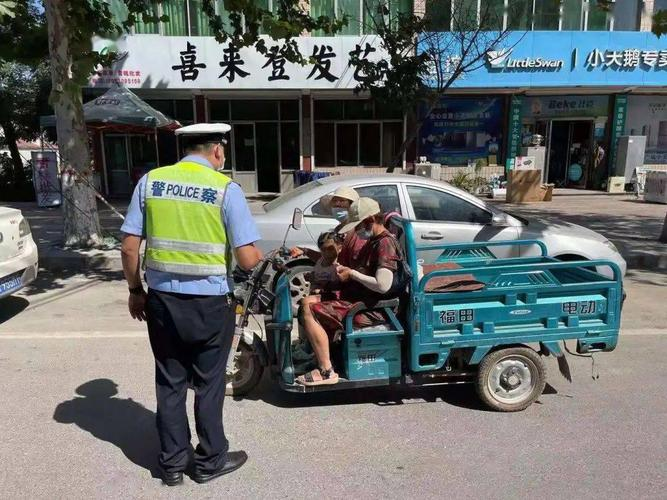driver: (281, 196, 442, 429)
overloading: (219, 166, 643, 452)
passenger: (294, 166, 357, 244)
